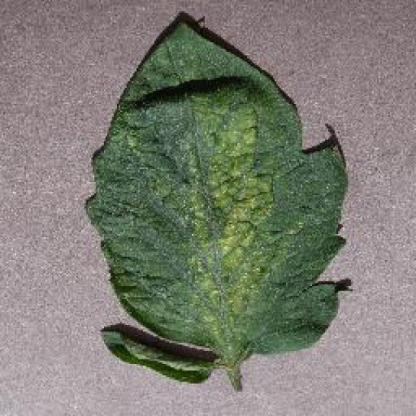Tomato_Spider_Mites: (86, 24, 351, 371)
